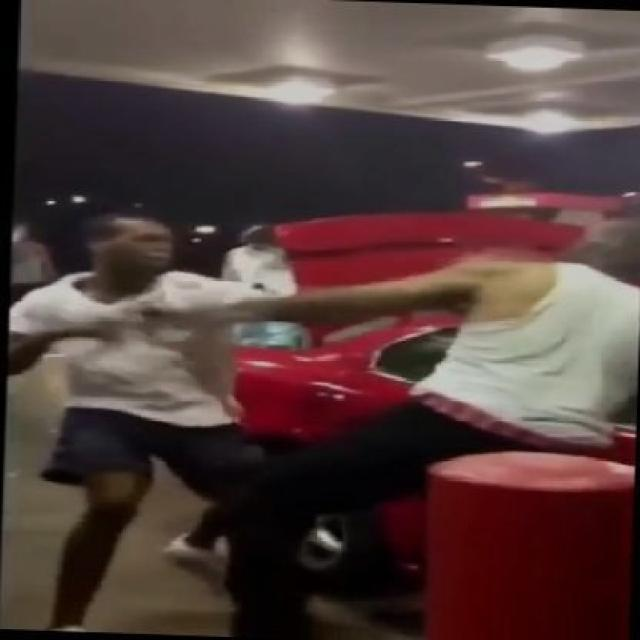fight: (0, 156, 638, 638)
